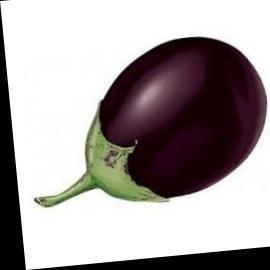eggplant: (16, 33, 269, 222)
